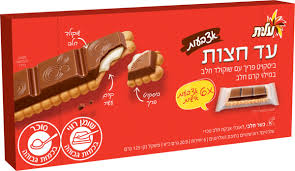Chocolate: (3, 12, 295, 152)
